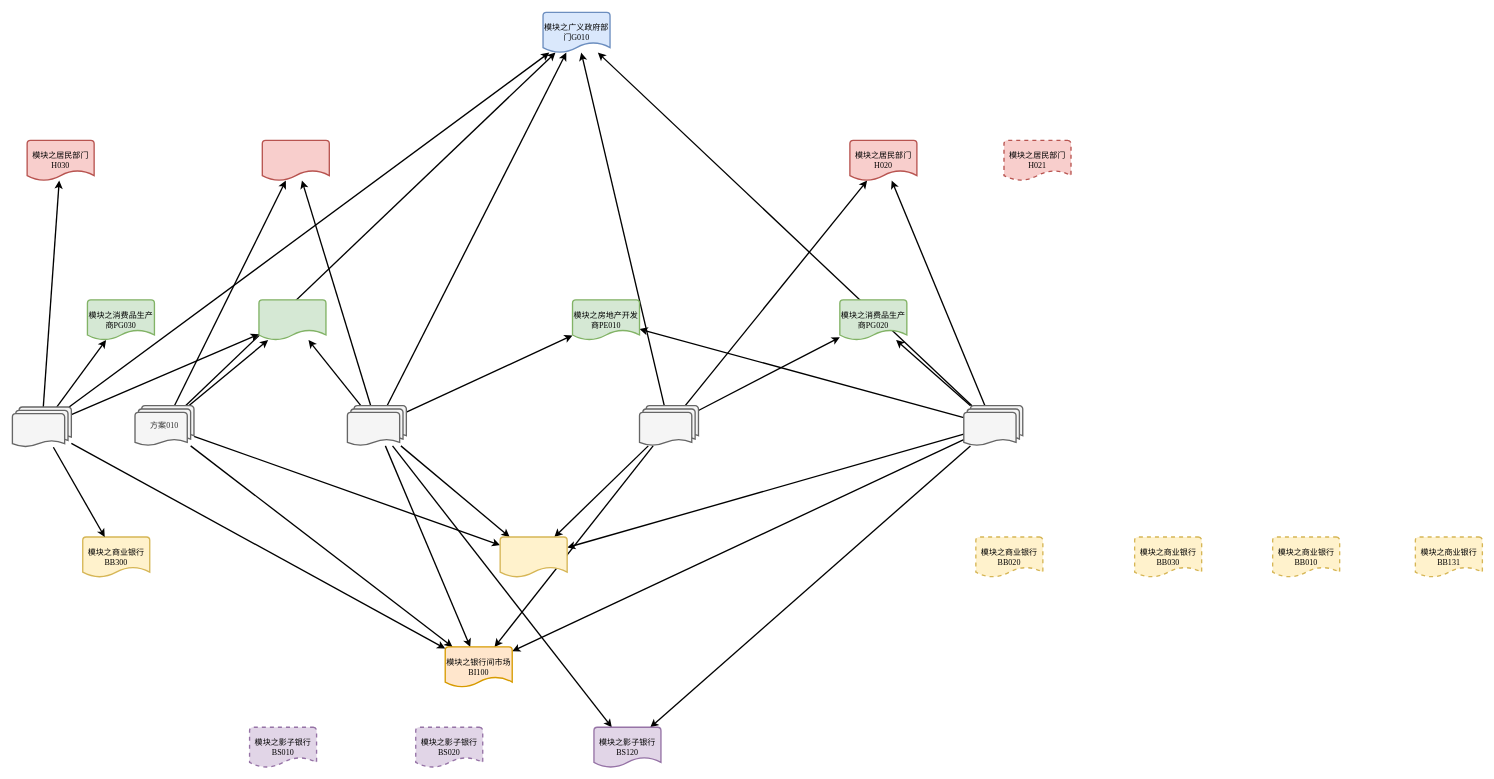
Some shapes in this 1494 by 779 pixel diagram are drawn without their labels. Here are the shapes that lost their labels. From the top down, the centre of each, then its label:
[295,160]: 模块之居民部门H010
[292,319]: 模块之消费品生产商PG010
[41,427]: 方案030
[376,425]: 方案011
[669,425]: 方案020
[993,425]: 方案021
[533,557]: 模块之商业银行BB200
